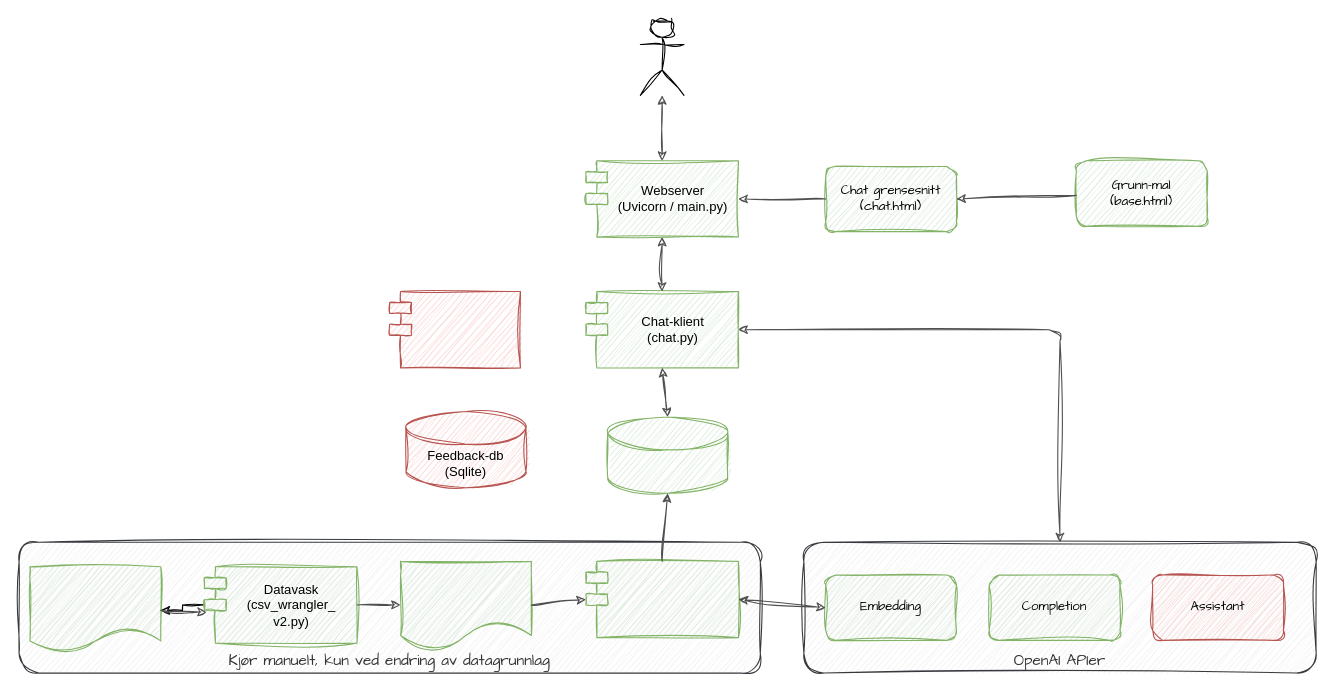
The diagram is 1335 pixels wide and 692 high, and some of its shapes have lost their labels. The centre of each missing label's shape, as x and y in pixels:
Bearbeidet datagrunnlag: [465,604]
Bruker: [661,56]
Feedback loop: [454,329]
Ubearbeidet datagrunnlag: [95,610]
Vektordb (Chromadb): [667,454]
Vektordb-oppretting (vector_db_ creator.py): [661,599]
